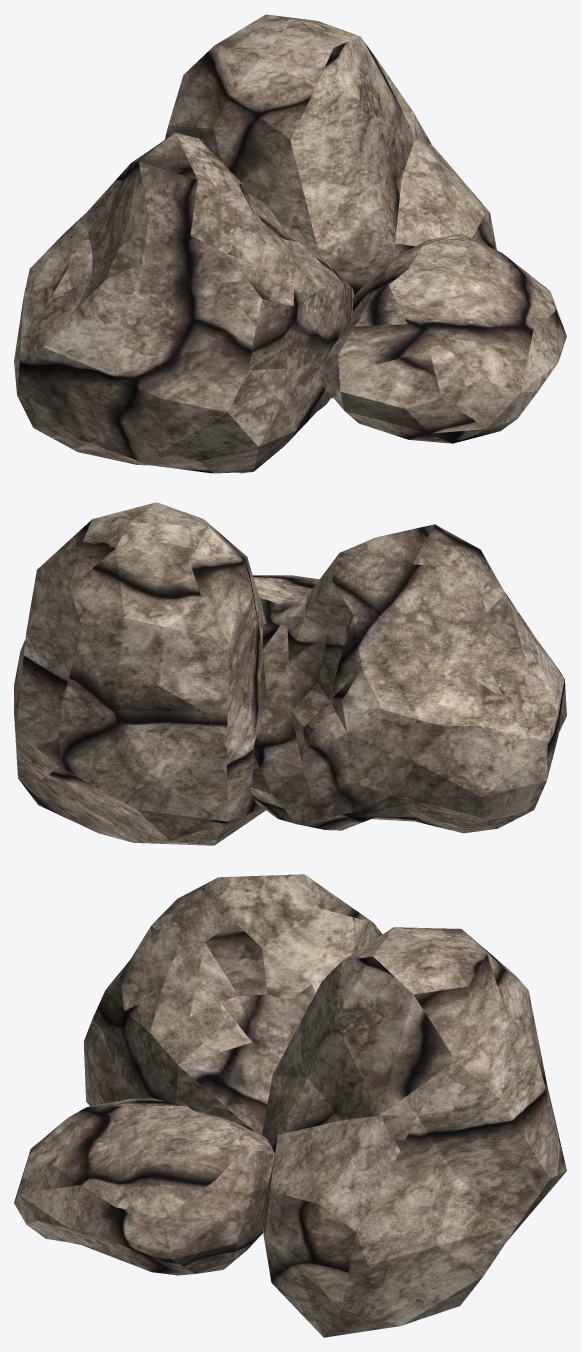
Rendered from rock.obj.
3 renders of one model, top to bottom at view 1: azimuth 30°, elevation 25°; view 2: azimuth 150°, elevation 25°; view 3: azimuth 270°, elevation 25°, orthographic. The views are drawn at different scales.
Visible parts, largest first — view 1: c; view 2: c; view 3: c.
Part boxes in pixels (x1,y1,x2,y2): c: (14,14,566,473); c: (14,502,566,845); c: (14,874,566,1337).
Size of the model in its own units: 1.91 by 1.27 by 1.74.
